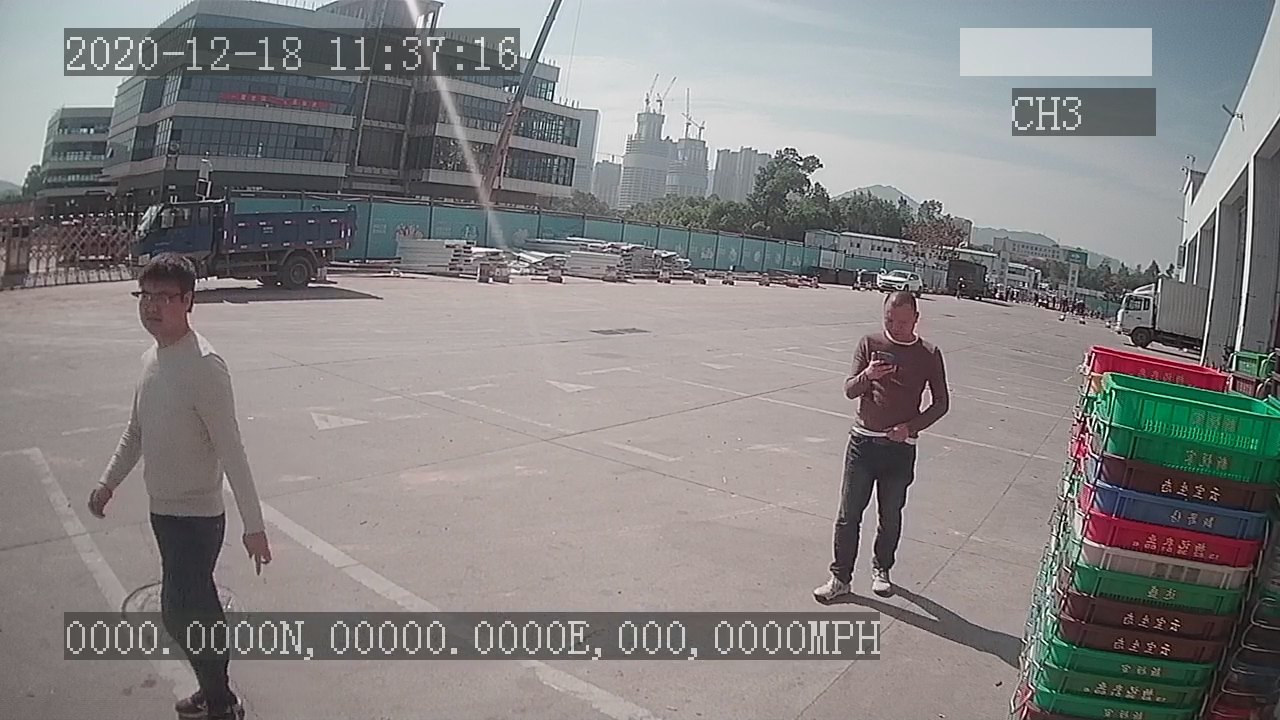person: (813, 286, 954, 603)
